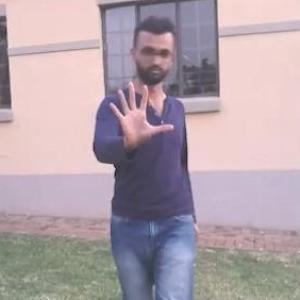follow_hand: (105, 77, 178, 155)
